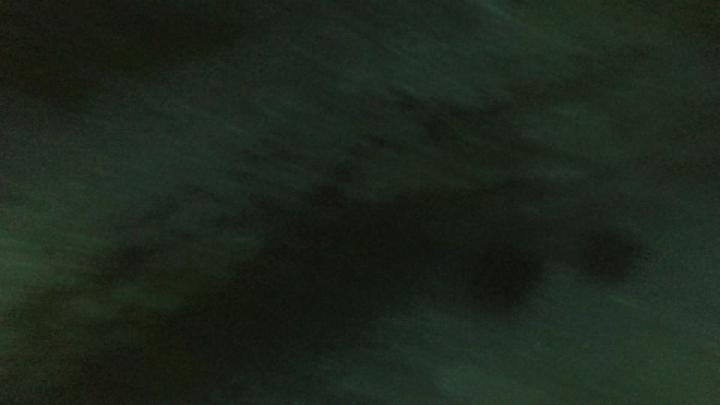echinus: (460, 235, 546, 316), (575, 221, 646, 287)
